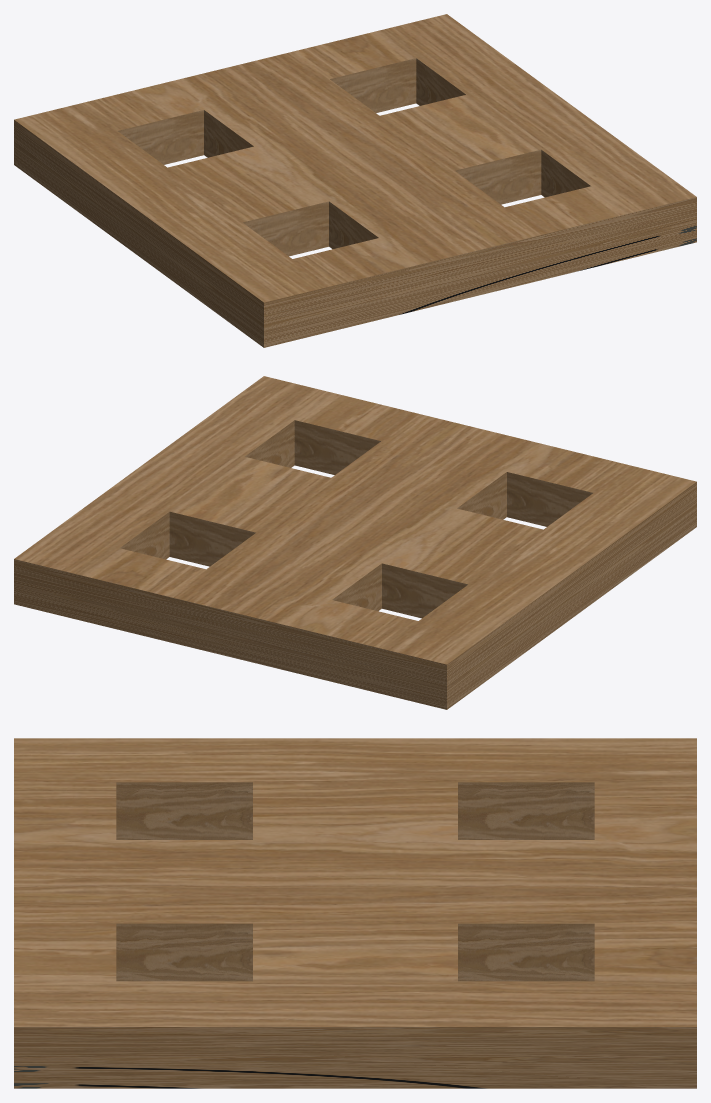
The model's file is PlatformHole.fbx.
3 views of the same model, one above another, from view 1: azimuth 30°, elevation 25°; view 2: azimuth 150°, elevation 25°; view 3: azimuth 270°, elevation 25° (orthographic). The views are drawn at different scales.
Parts seen in each view (by area): view 1: Cube; view 2: Cube; view 3: Cube.
Part boxes in pixels (left/top/right/bottom): Cube: left=14, top=14, right=696, bottom=347; Cube: left=14, top=376, right=696, bottom=709; Cube: left=14, top=738, right=696, bottom=1088.
Size of the model in its own units: 1 by 1 by 0.1.
